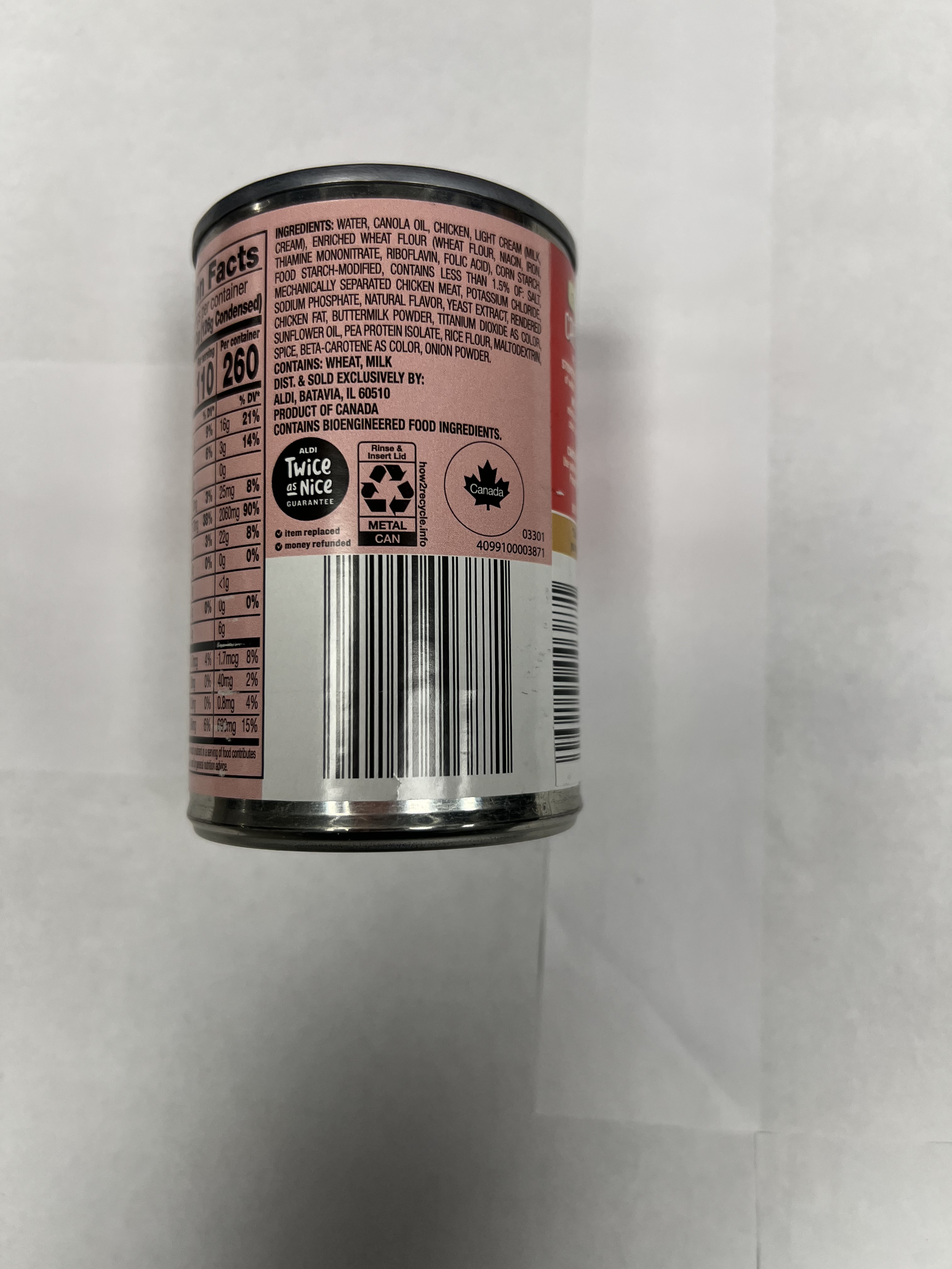packaged: (183, 156, 587, 861)
